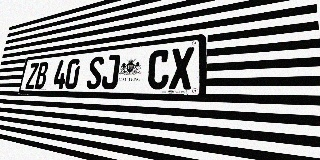0: (64, 58, 81, 89)
4: (52, 60, 68, 89)
B: (34, 62, 49, 89)
C: (147, 49, 170, 89)
J: (101, 54, 121, 89)
S: (86, 56, 104, 89)
X: (169, 46, 194, 89)
Z: (25, 63, 39, 89)
